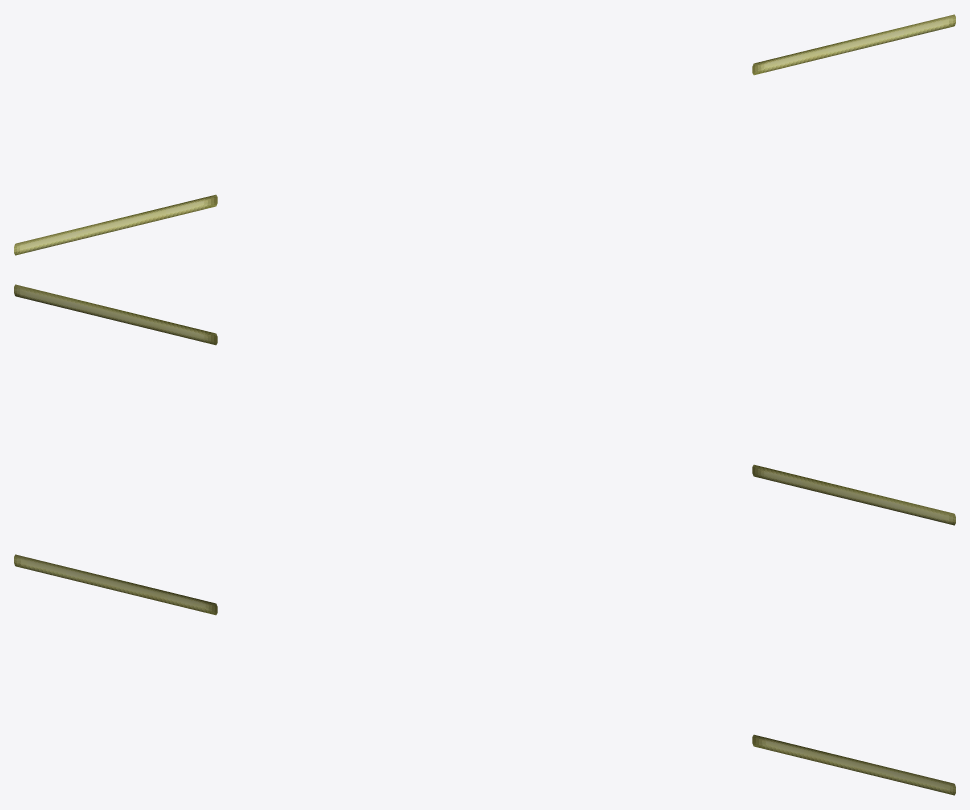
Rendered from ywing_booster_s01_on_l0.fbx.
3 views of the same model, one above another, from view 1: azimuth 30°, elevation 25°; view 2: azimuth 150°, elevation 25°; view 3: azimuth 330°, elevation 25° (orthographic).
Visible parts, largest first — view 1: mesh_node; view 2: mesh_node; view 3: mesh_node.
Part boxes in pixels (x1,y1,x2,y2): mesh_node: (14,14,955,255); mesh_node: (14,284,955,525); mesh_node: (14,554,955,795).
Bounding box in the file's own units: 6.63 × 0.08 × 0.00997.
Materials: 1 (1 with a texture image).
